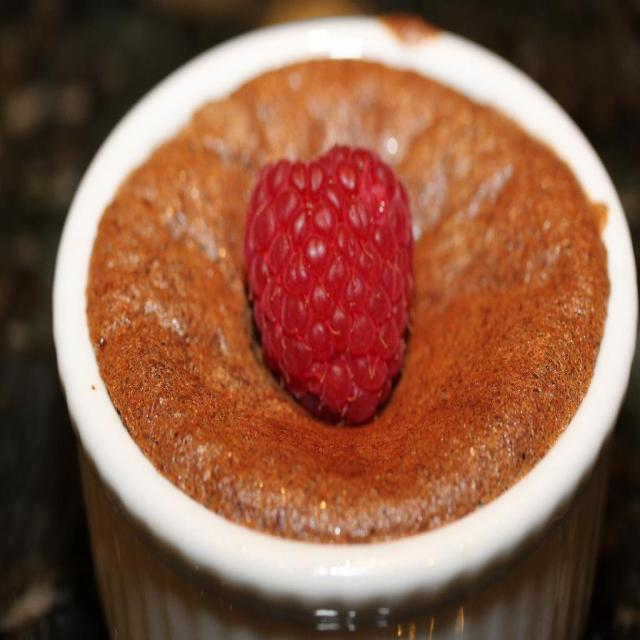Strawberry: (242, 143, 414, 424)
